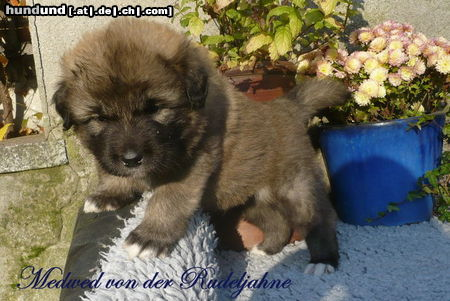cau_ovcharka: (51, 17, 347, 278)
